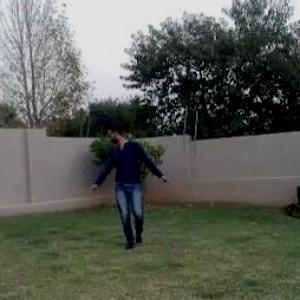land: (80, 114, 169, 255)
